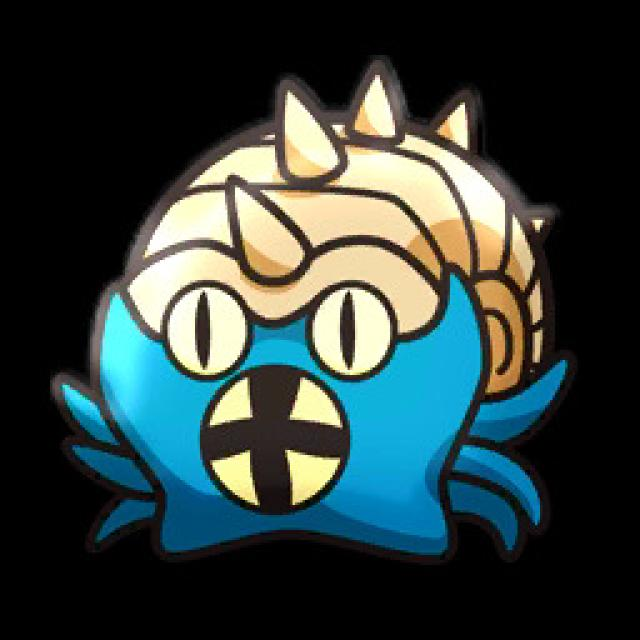Omastar: (21, 68, 620, 574)
